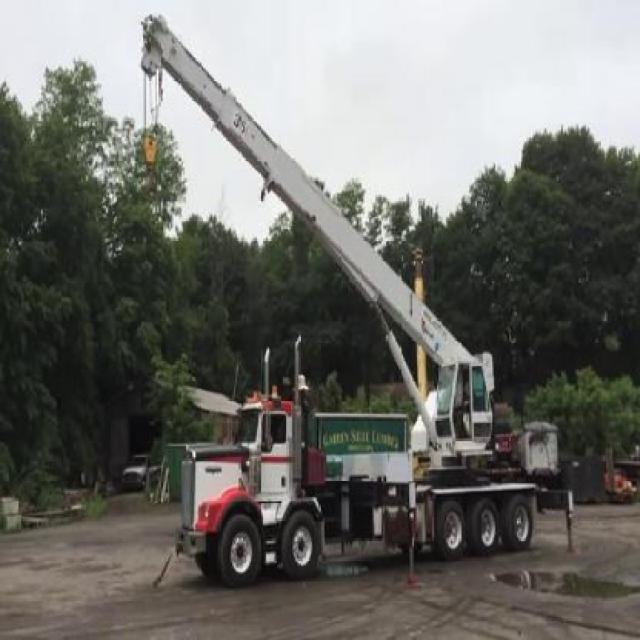Mobile Crane: (138, 13, 572, 590)
